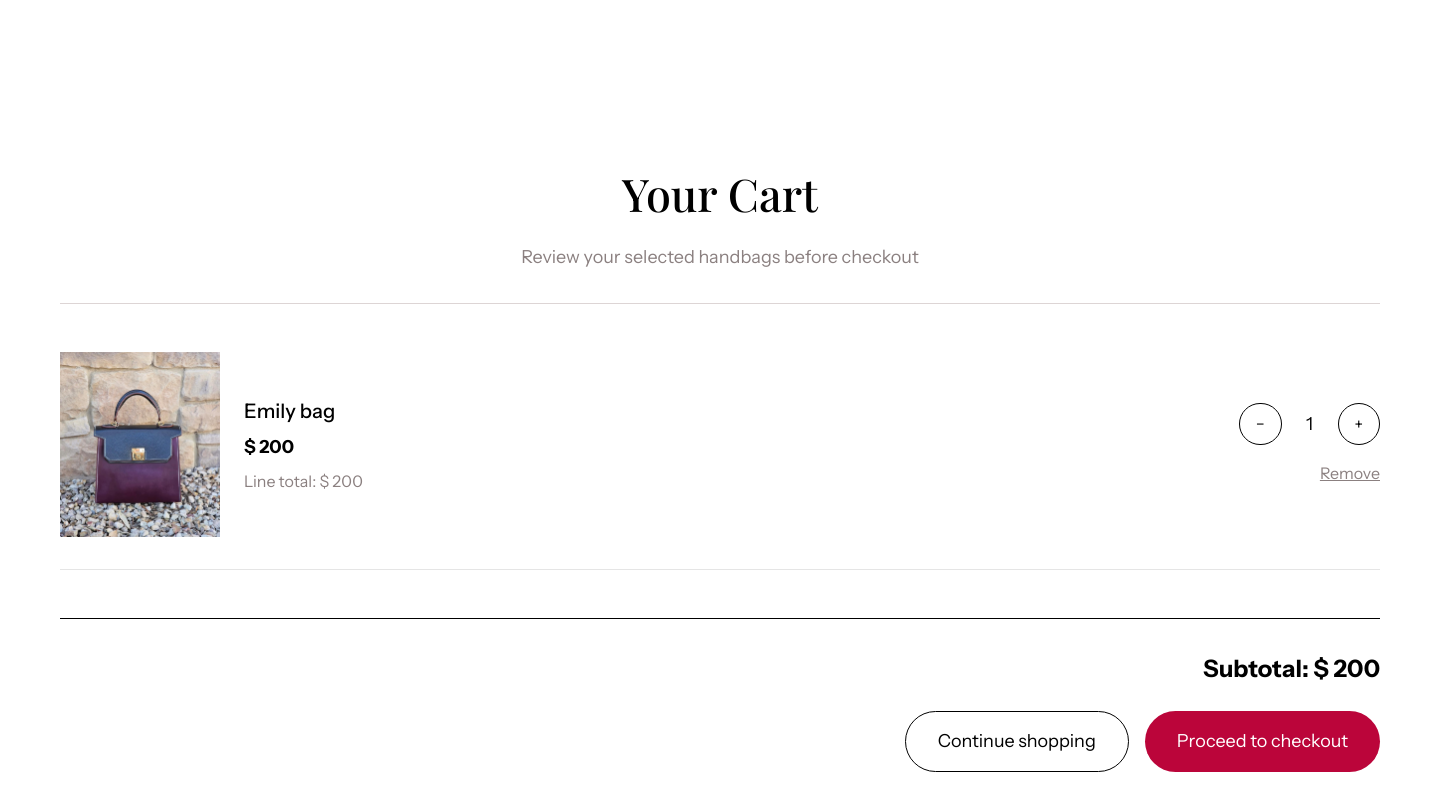
Test: CartSection › removes an item from the cart
Expected: the list item with test id "cart-item-catalog-1" is shown, left=60, top=352, right=1380, bottom=570
Click the button "Remove". click: (1350, 473)
box: left=1320, top=461, right=1380, bottom=485
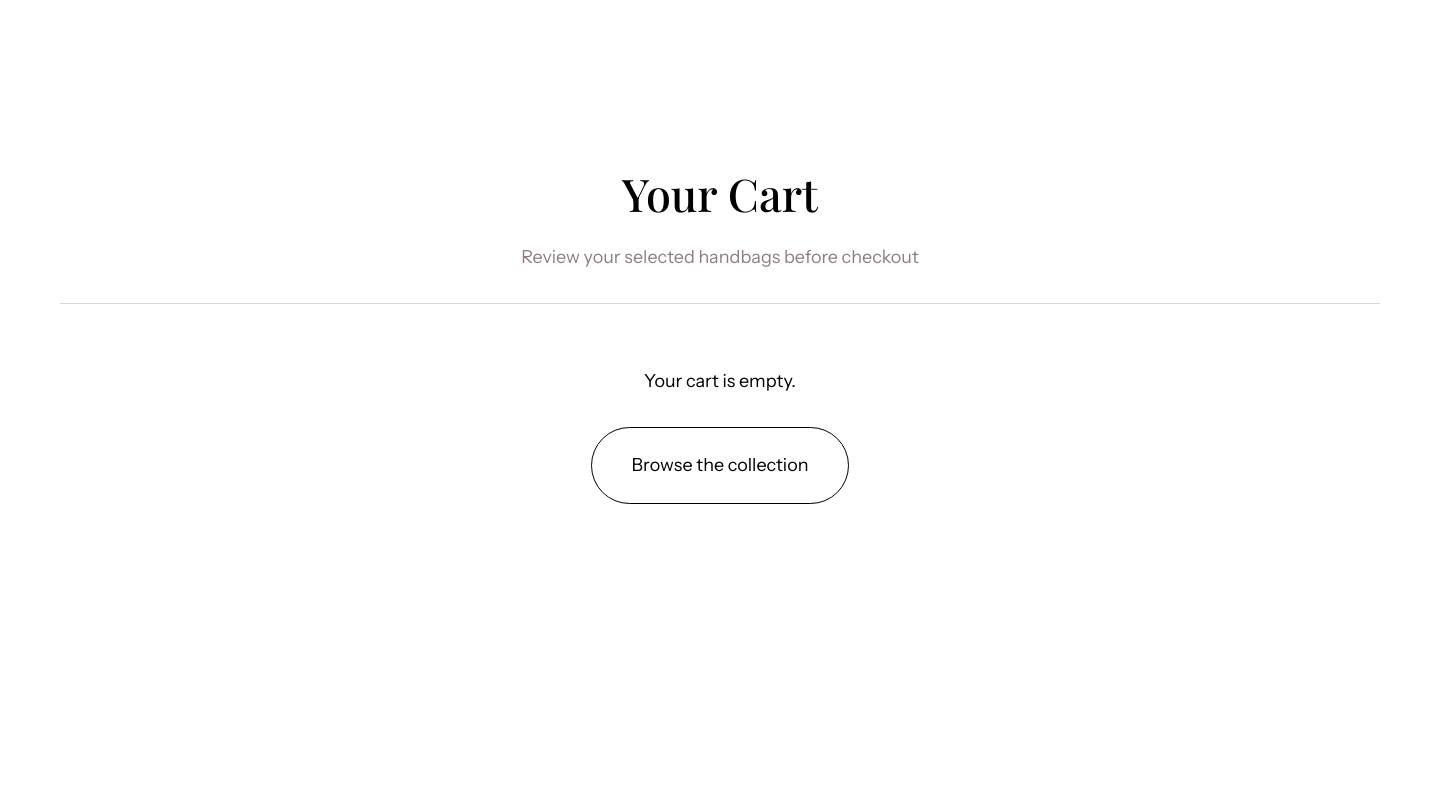
Expected: the text "Your cart is empty." is shown, left=644, top=370, right=796, bottom=392
